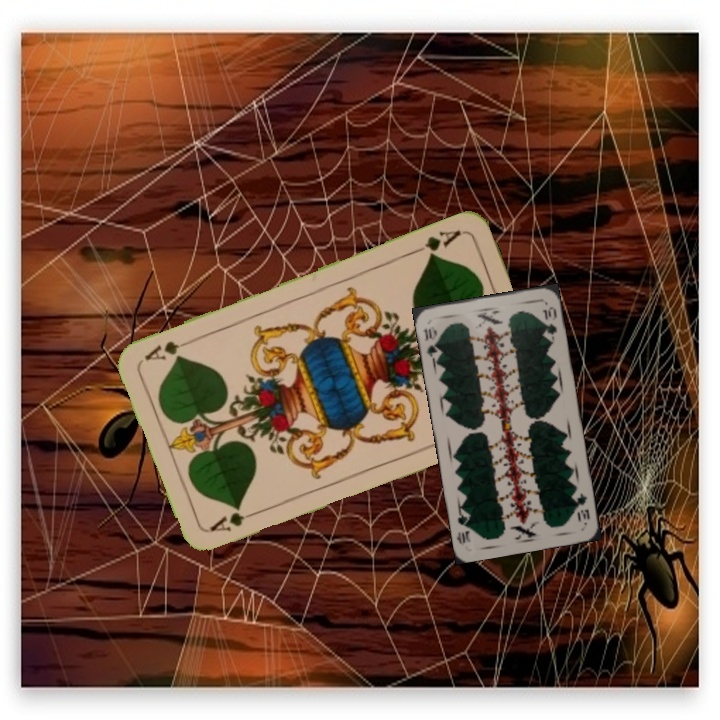G10: (419, 324, 442, 361), (570, 489, 592, 524)
GA: (409, 225, 464, 261), (206, 503, 261, 535)
